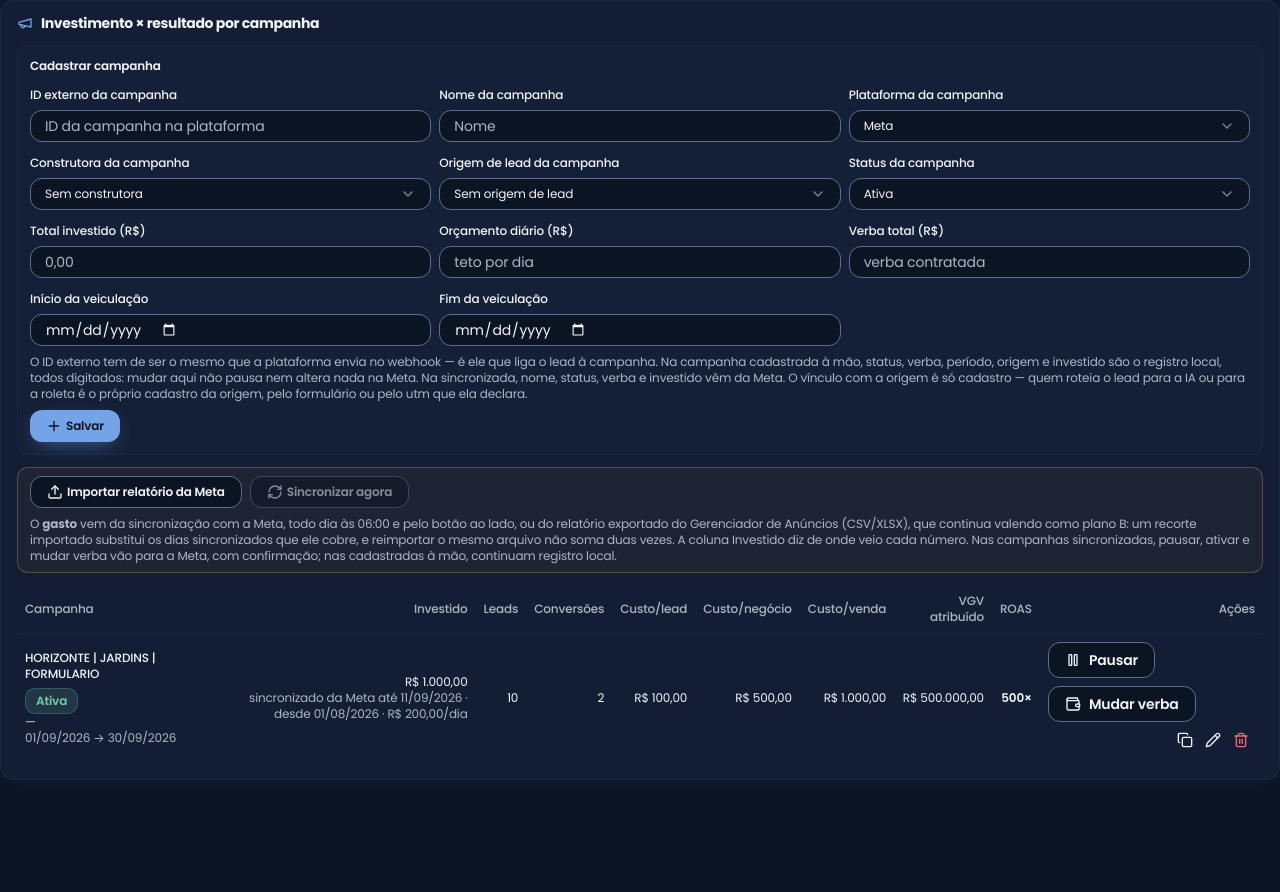
Scenario: CampaignPerformancePanel · Meta › campanha sincronizada: ID, nome, plataforma, status, verba e investido travados com a frase; o vínculo continua editável
Expected: the table is shown, [17,585,1263,763]
Click the button named "Editar HORIZONTE | JARDINS | FORMULARIO" at (1213, 740), box [1199,726,1227,754]
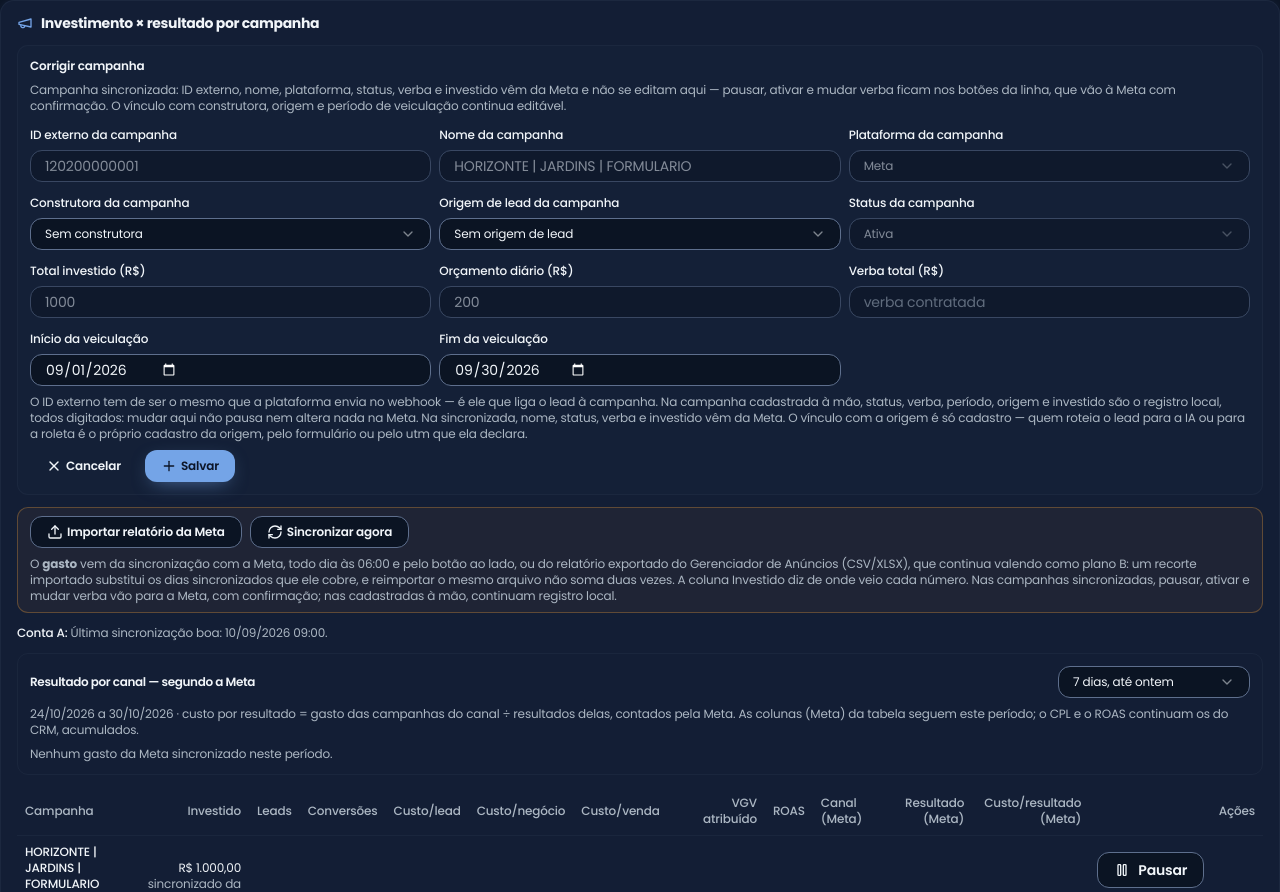
Expected: the label "ID externo da campanha" is shown, [30,126,177,143]
Expected: the text "Corrigir campanha" is shown, [30,57,145,74]
